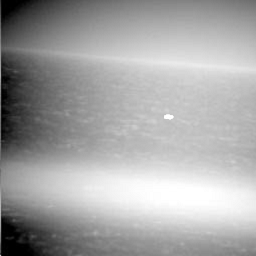Target: (162, 113, 175, 122)
